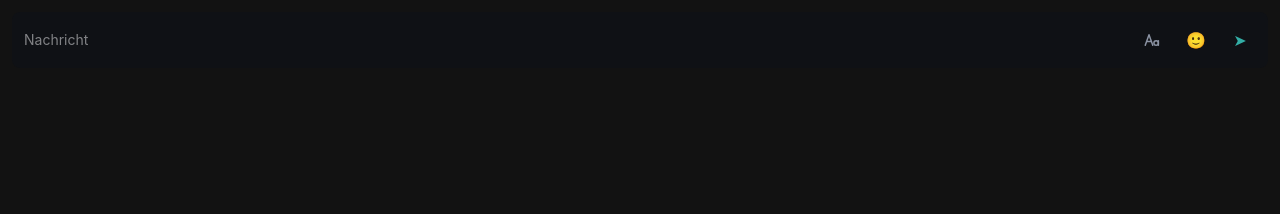
Scenario: Composer: mention autocomplete › navigates with the arrow keys and picks with the mouse without losing the focus
Step 1. Type "@al" into the dropdown labelled "Nachricht" → (574, 40), box [20,20,1128,60]
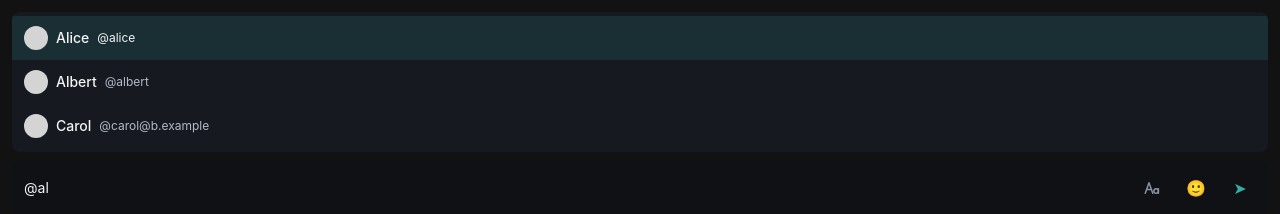
Expected: the number of options is 3, [12,16,1268,60]; [24,70,149,94]; [24,114,209,138]
Step 2. Press Arrowdown
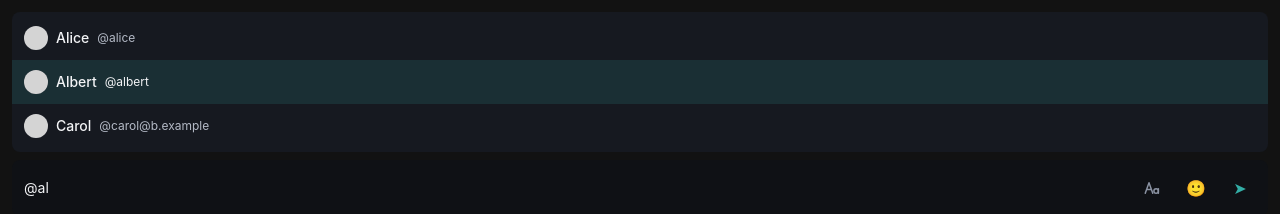
Expected: the option "Albert @albert" is selected, [12,60,1268,104]
Step 3. Press Arrowup Arrowup
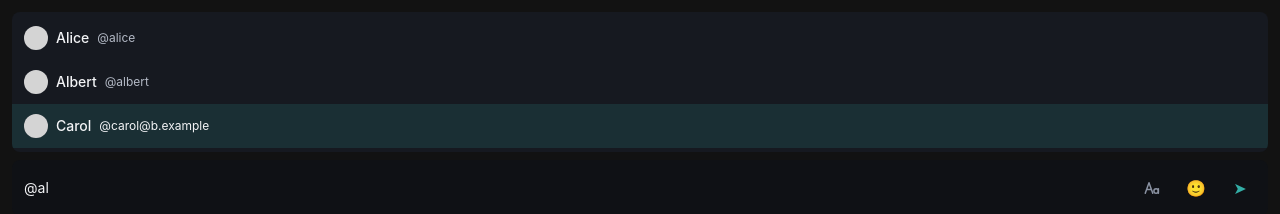
Expected: the option "Carol @carol@b.example" is selected, [12,104,1268,148]
Step 4. Press Enter
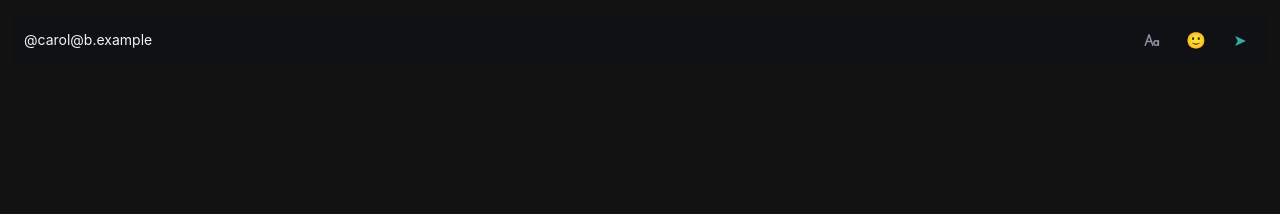
Expected: the dropdown named "Nachricht" holds "@carol@b.example "
Step 5. Type "@al" into the dropdown named "Nachricht" → (574, 40), box [20,20,1128,60]
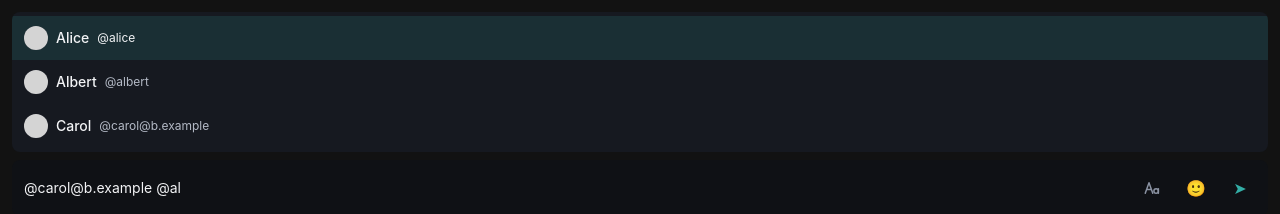
Step 6. Press the mouse on the option "Albert @albert" → (86, 82), box [24,70,149,94]
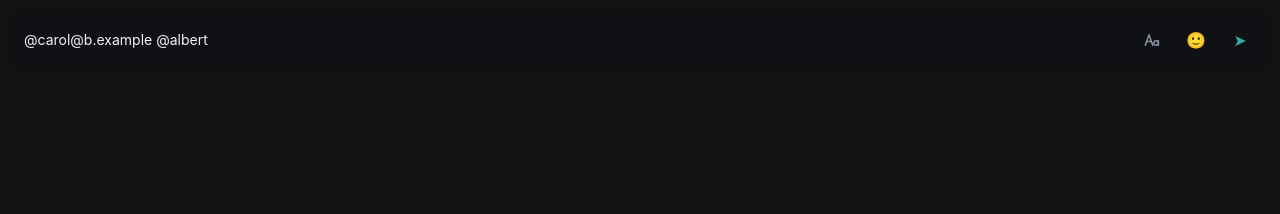
Expected: the dropdown named "Nachricht" holds "@carol@b.example @albert ", [20,20,1128,60]
